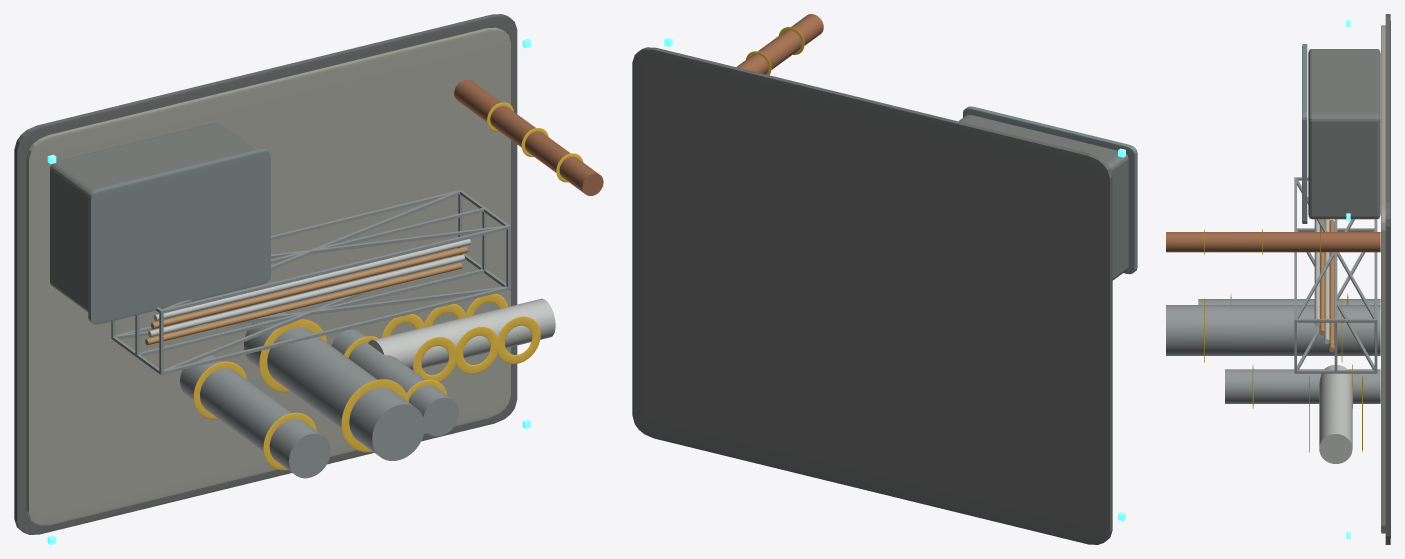
The model's file is b-07-refinery-lod1.glb.
3 views of the same model, side by side, from view 1: azimuth 30°, elevation 25°; view 2: azimuth 150°, elevation 25°; view 3: azimuth 270°, elevation 25° (orthographic). The views are drawn at different scales.
Parts seen in each view (by area): view 1: foundation_inner_pad, refinery_control_roof, foundation, refinery_control_main_hall, distillation_column_1_vessel, distillation_column_0_vessel, flare_stack_stack, distillation_column_2_vessel, horizontal_tank_0_vessel, refinery_pipe_0_segment_1, refinery_pipe_2_segment_1, refinery_pipe_1_segment_1 (+19 smaller); view 2: foundation, refinery_control_main_hall, refinery_control_roof, flare_stack_stack; view 3: refinery_control_main_hall, distillation_column_1_vessel, flare_stack_stack, distillation_column_2_vessel, foundation, foundation_inner_pad, horizontal_tank_2_vessel, refinery_control_roof, distillation_column_0_vessel, horizontal_tank_1_vessel, horizontal_tank_0_vessel, refinery_pipe_0_segment_1 (+12 smaller).
Part boxes in pixels (<box>): foundation_inner_pad: <box>26,27,510,525</box>; refinery_control_roof: <box>88,149,270,324</box>; foundation: <box>14,14,517,534</box>; refinery_control_main_hall: <box>50,123,255,311</box>; distillation_column_1_vessel: <box>244,312,424,460</box>; distillation_column_0_vessel: <box>180,354,330,478</box>; flare_stack_stack: <box>454,79,603,195</box>; distillation_column_2_vessel: <box>331,329,458,436</box>; horizontal_tank_0_vessel: <box>368,319,472,370</box>; refinery_pipe_0_segment_1: <box>145,262,462,345</box>; refinery_pipe_2_segment_1: <box>151,246,467,329</box>; refinery_pipe_1_segment_1: <box>148,254,464,337</box>; foundation: <box>632,47,1112,544</box>; refinery_control_main_hall: <box>958,115,1128,280</box>; refinery_control_roof: <box>963,106,1137,274</box>; flare_stack_stack: <box>736,14,823,74</box>; refinery_control_main_hall: <box>1308,49,1380,219</box>; distillation_column_1_vessel: <box>1166,305,1380,355</box>; flare_stack_stack: <box>1166,232,1380,252</box>; distillation_column_2_vessel: <box>1225,369,1380,403</box>; foundation: <box>1385,14,1390,544</box>; foundation_inner_pad: <box>1381,25,1385,533</box>; horizontal_tank_2_vessel: <box>1319,398,1352,463</box>; refinery_control_roof: <box>1302,44,1307,223</box>; distillation_column_0_vessel: <box>1198,299,1380,304</box>; horizontal_tank_1_vessel: <box>1319,381,1352,430</box>; horizontal_tank_0_vessel: <box>1319,365,1352,408</box>; refinery_pipe_0_segment_1: <box>1329,219,1334,352</box>.
Size of what is drawn, in the model's own units: 18 by 14 by 8.38.
